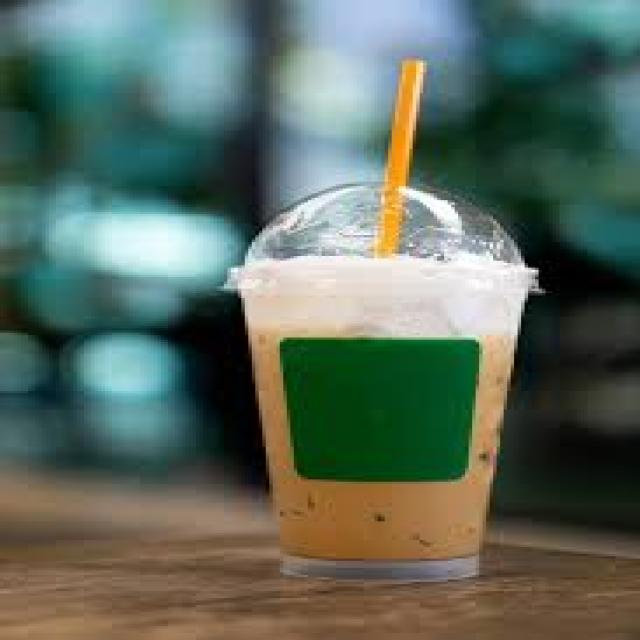bottle: (237, 259, 533, 581)
